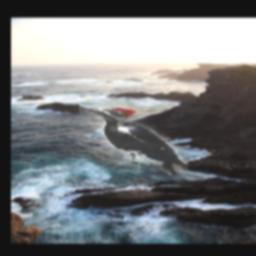Woodpecker: (79, 106, 188, 176)
